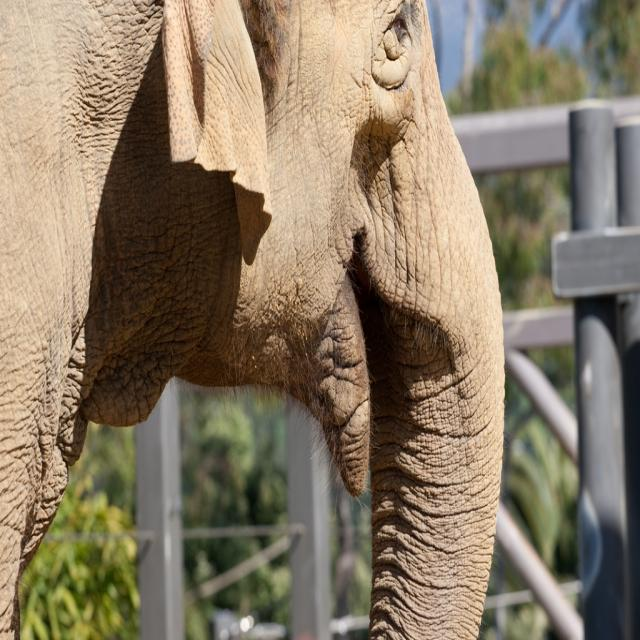Elephant: (25, 0, 522, 614)
